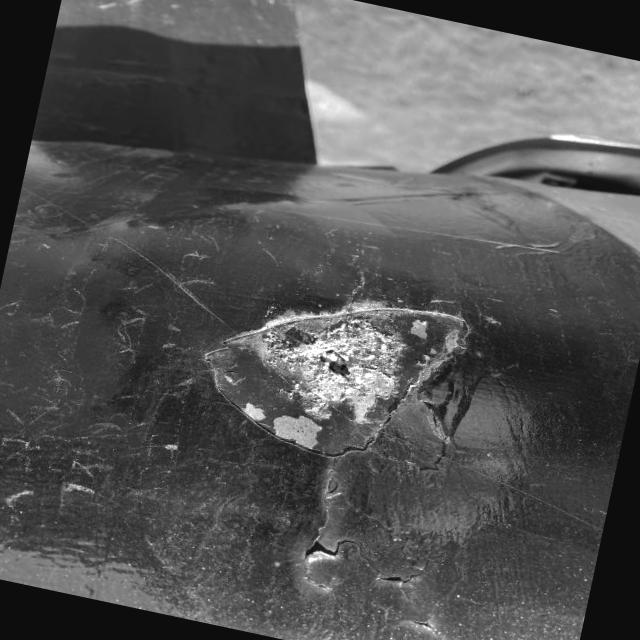crack: (275, 516, 436, 604), (377, 613, 495, 640)
dent: (177, 258, 488, 490)
